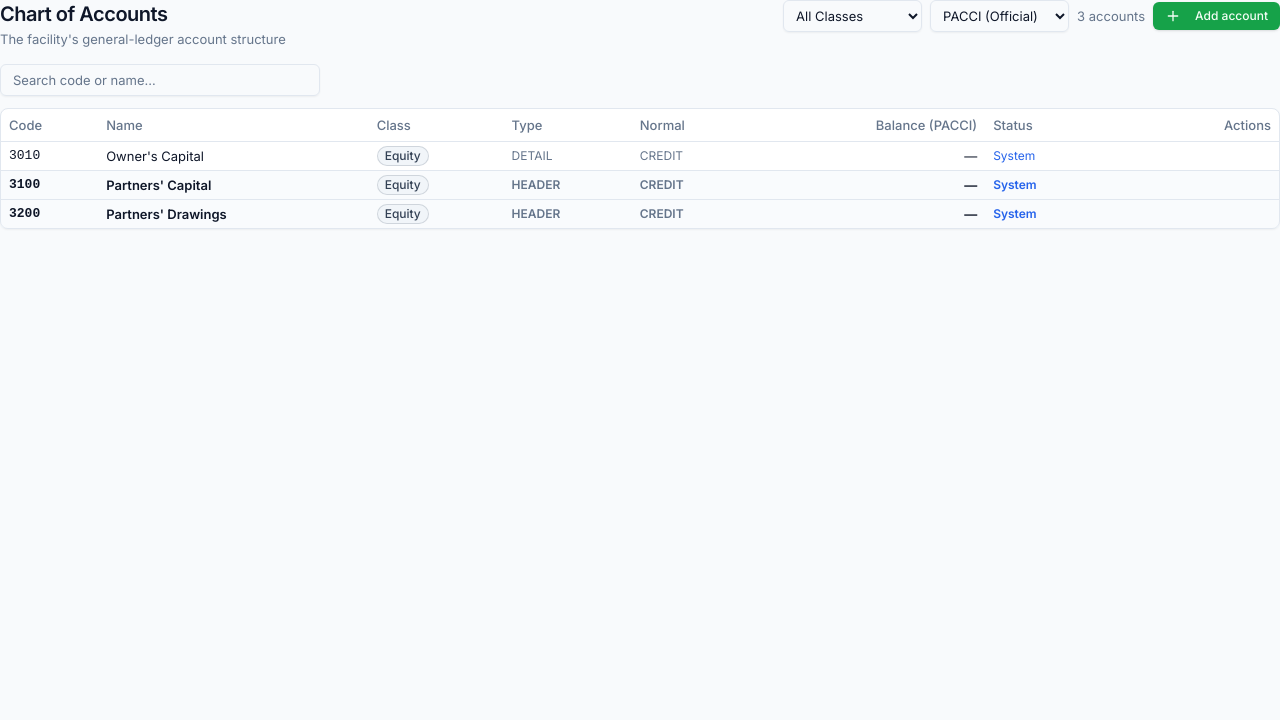
Test: ChartOfAccountsPage — partner equity accounts › prefills a partner capital code from the header, and names the range
Expected: the text "Partners' Capital" is shown, [98,170,369,199]
Click the button "Add account".
click(1217, 16)  # box [1153,2,1279,30]
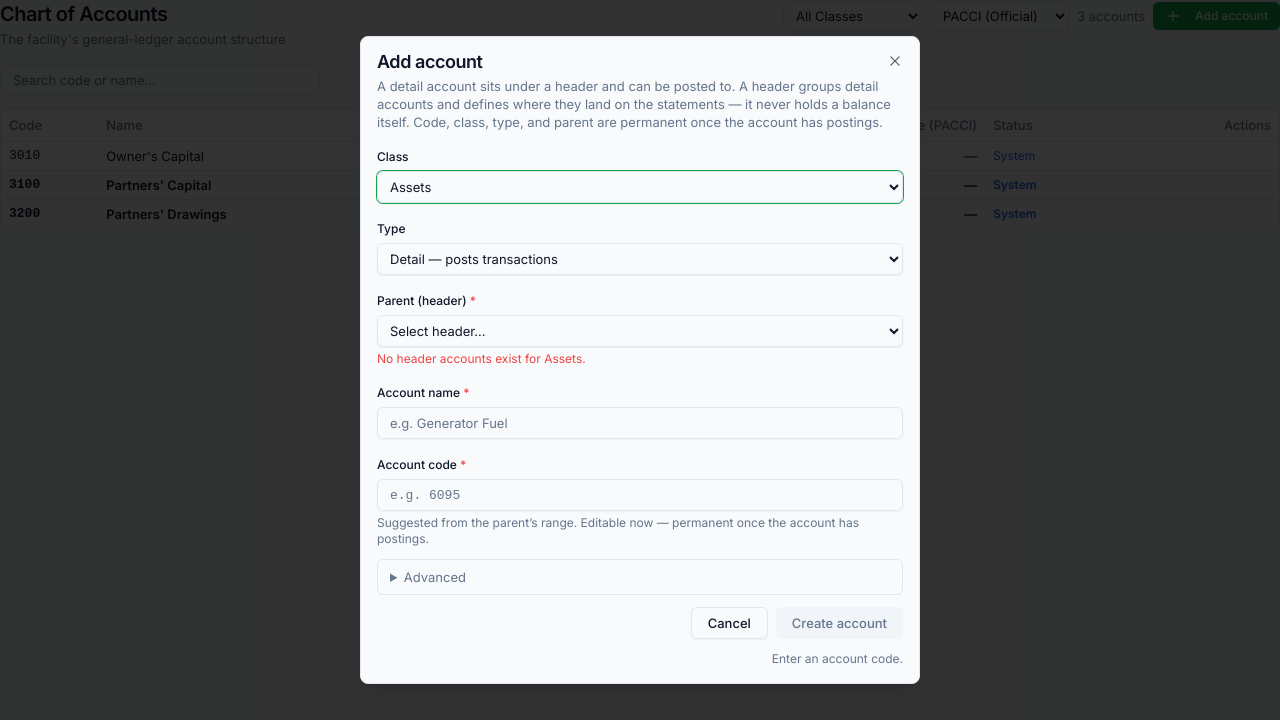
Select "Equity" in the dropdown labelled "Class" at (640, 187), box [377,171,903,203]
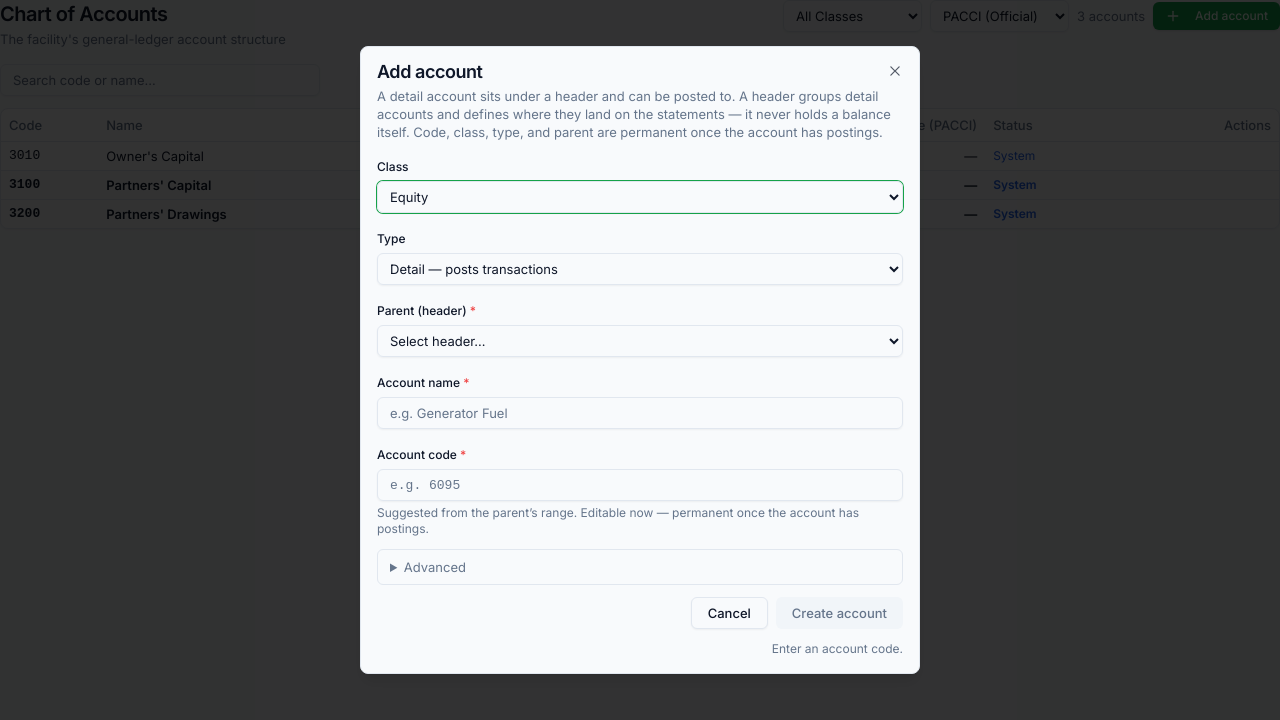
// The whole point: no code has to be invented.
Select "3100 — Partners' Capital" in the dropdown labelled "Parent (header) *" at (640, 341), box [377,325,903,357]
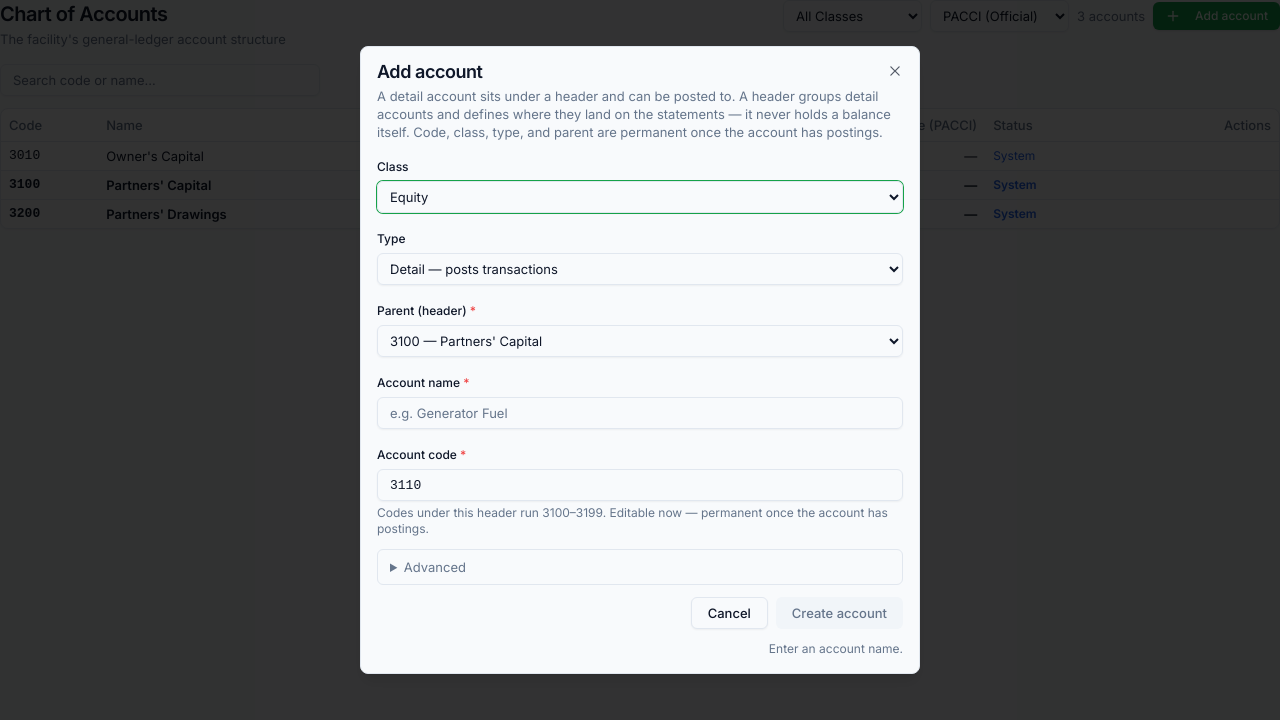
Expected: the field labelled "Account code *" holds "3110", [377,469,903,501]
Expected: the text "Codes under this header run 3100.3199" is shown, [377,505,888,536]
// Drawings are a separate block, so the two can never collide.
Select "3200 — Partners' Drawings" in the dropdown labelled "Parent (header) *" at (640, 341), box [377,325,903,357]
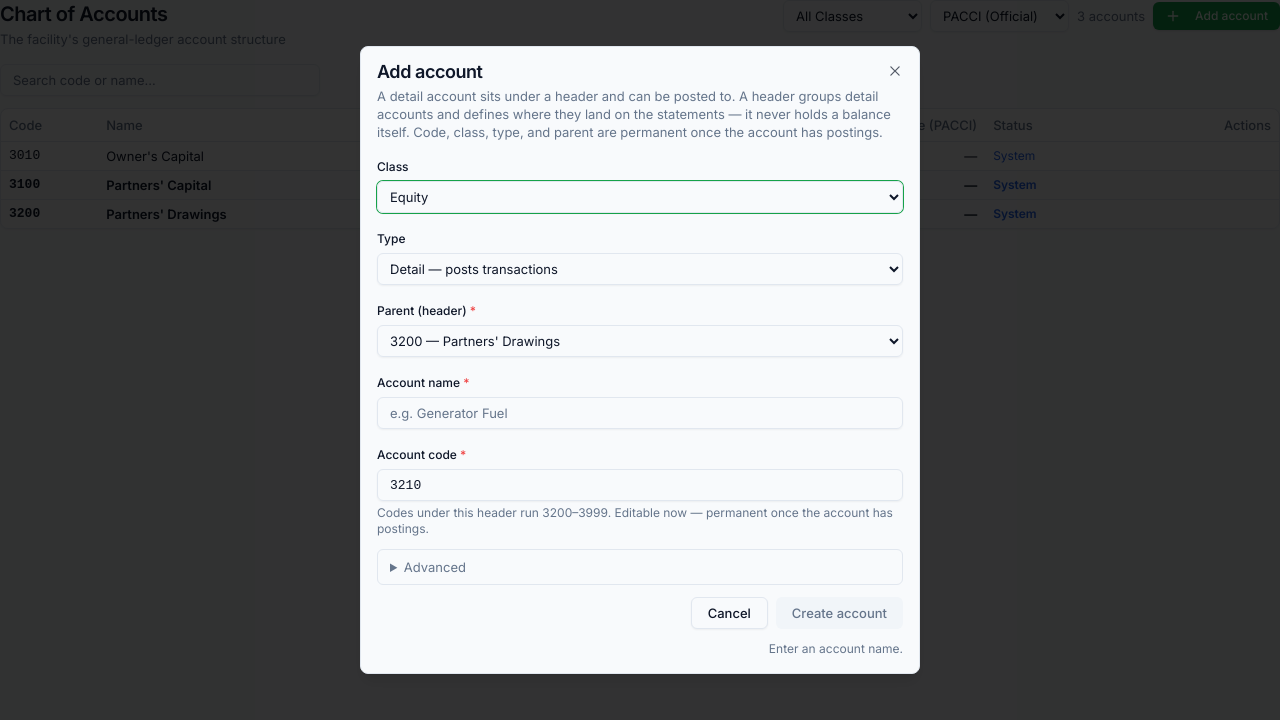
Expected: the field labelled "Account code *" holds "3210", [377,469,903,501]
